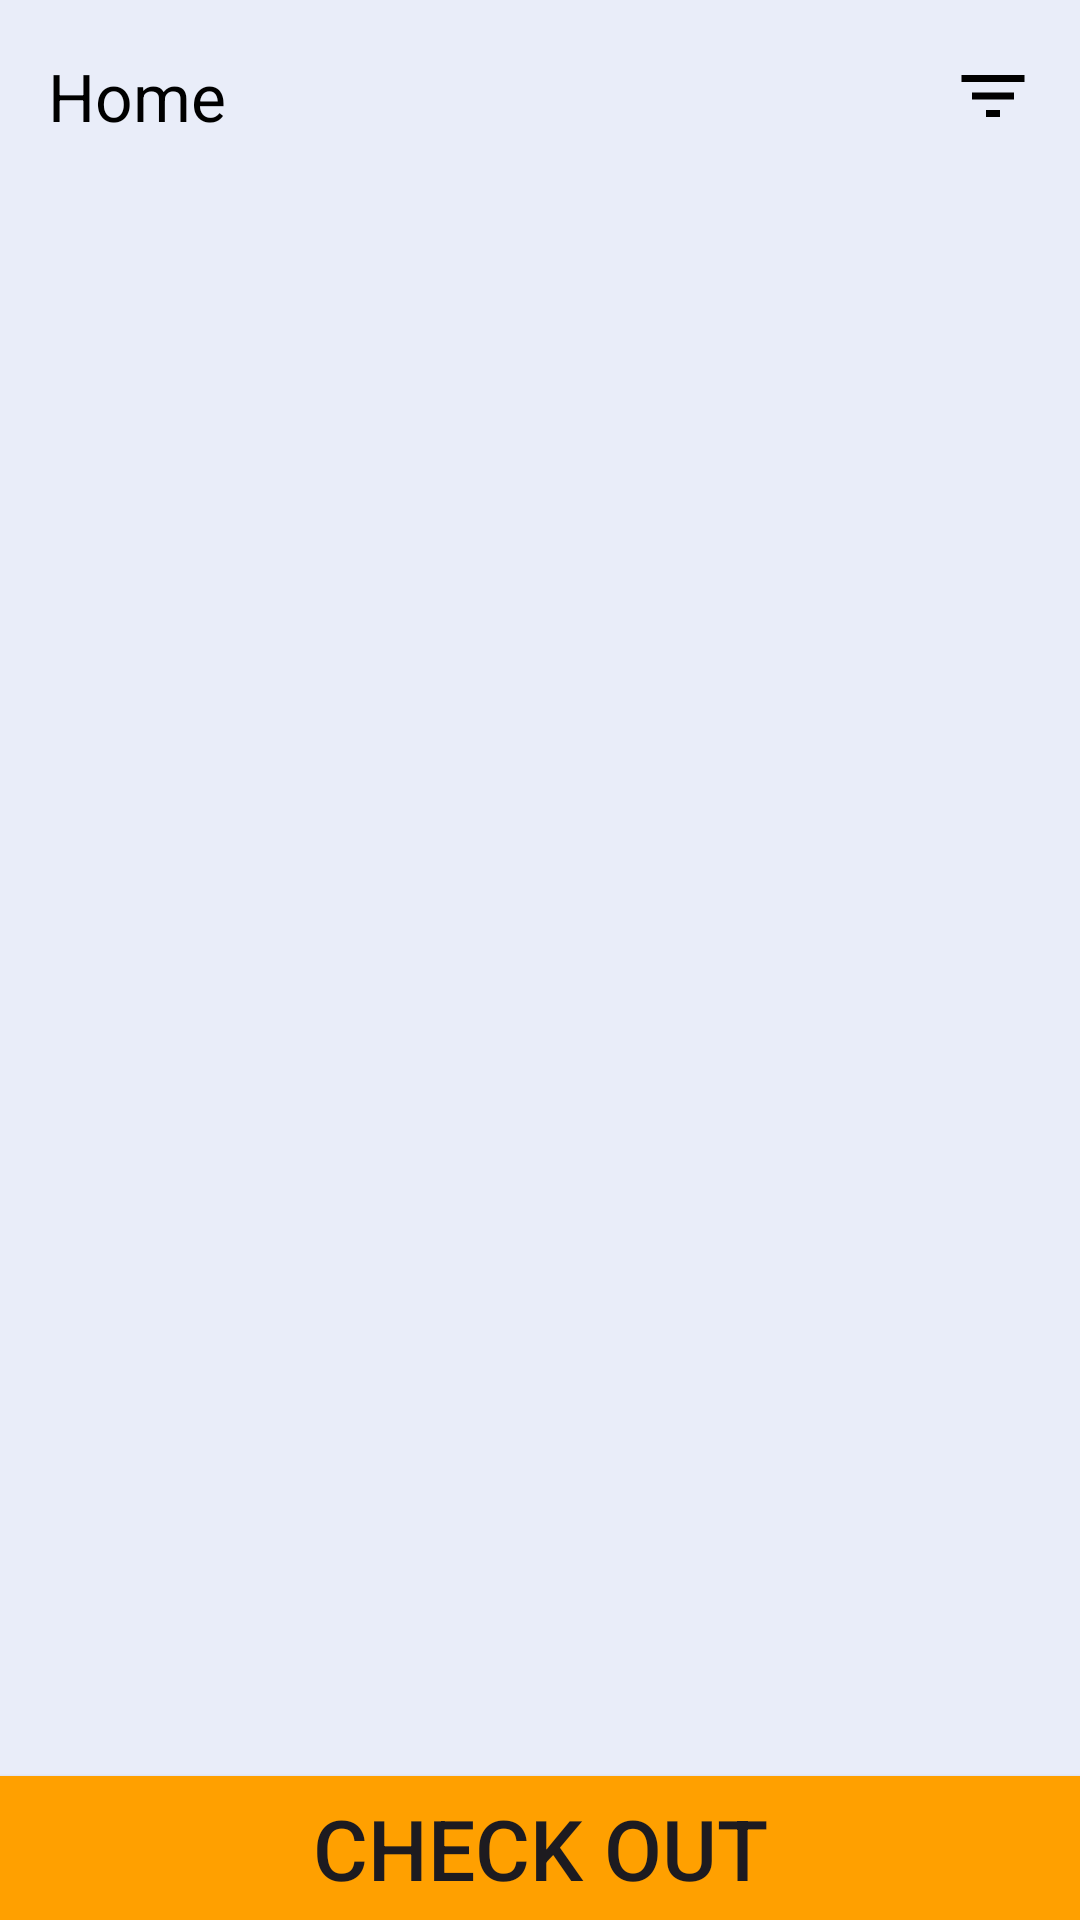

Icons on this 1080w x 1920h Android screen, each with its box as (x1, y1, x2, y2):
filter list: (961, 75, 1025, 117)
